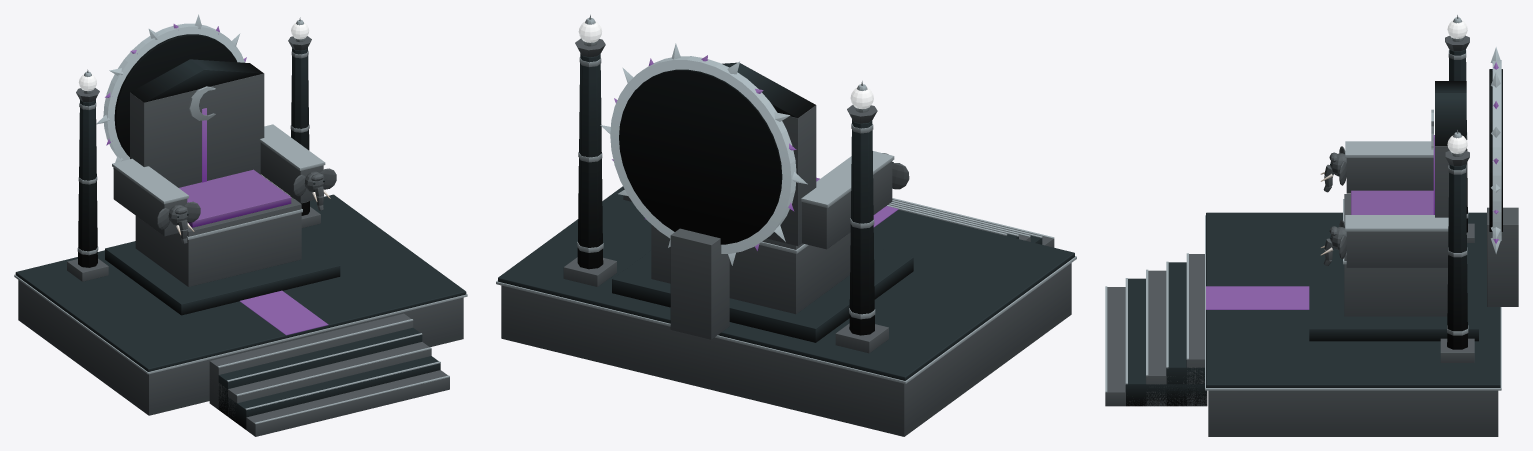
Rendered from table_throne.glb.
The picture shows the model from 3 angles, left to right: view 1: azimuth 30°, elevation 25°; view 2: azimuth 150°, elevation 25°; view 3: azimuth 270°, elevation 25°; orthographic projection. The views are drawn at different scales.
Visible parts, largest first — view 1: table_throne; view 2: table_throne; view 3: table_throne.
Part boxes in pixels (x1,y1,x2,y2): table_throne: (14, 14, 467, 436); table_throne: (496, 14, 1076, 436); table_throne: (1105, 15, 1518, 436).
Size of the model in its own units: 18.1 by 14.33 by 18.25.
7 materials, 7 textured.
